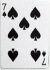seven: (1, 1, 48, 69)
